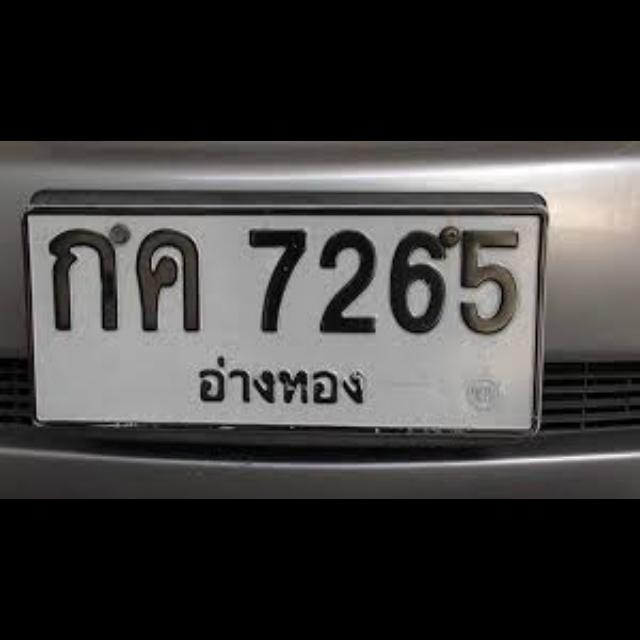licenseplate: (21, 204, 545, 440)
